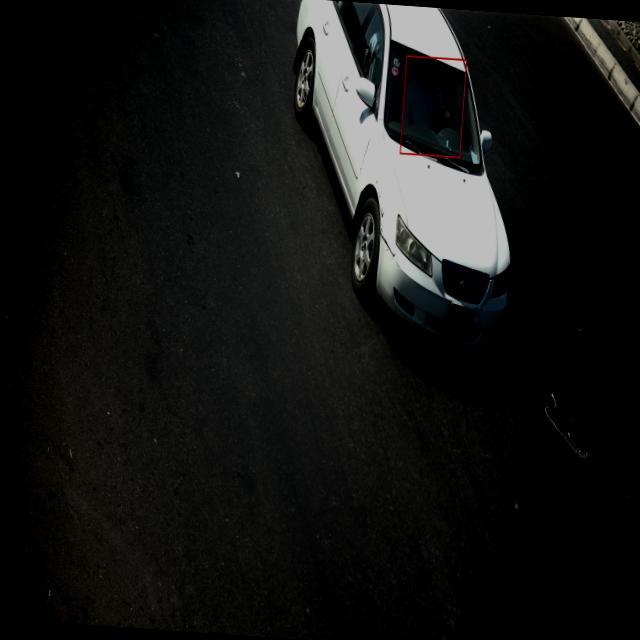windshield: (382, 38, 486, 174)
